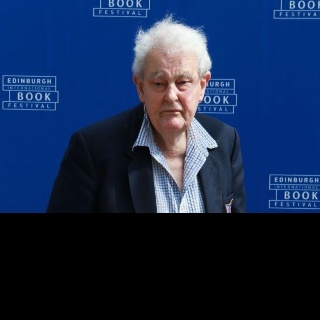without_mask: (142, 46, 201, 131)
